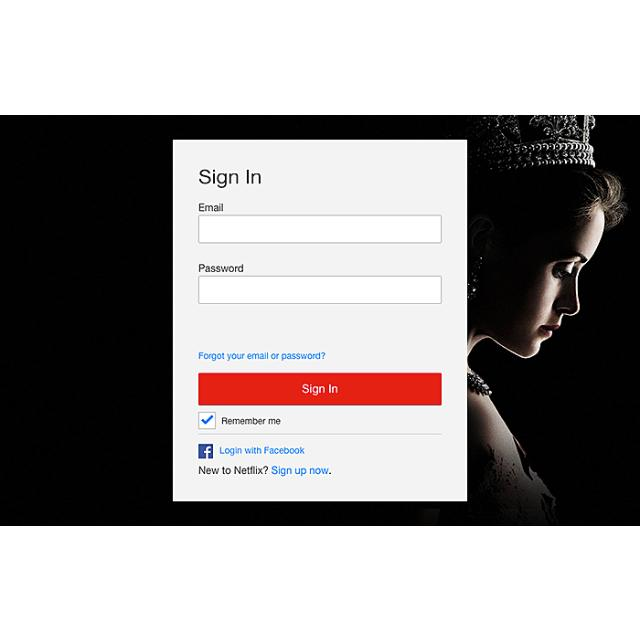QLabel: (196, 349, 326, 361), (196, 166, 264, 188), (220, 444, 308, 456), (198, 464, 268, 476), (271, 464, 331, 476), (220, 416, 282, 426), (302, 383, 338, 395)
VBtn: (197, 372, 443, 406)
VCard: (171, 138, 469, 502)
VCheckbox: (196, 410, 217, 430)
VDivider: (196, 430, 444, 436)
VImg: (196, 440, 216, 460)
VTextField: (196, 273, 444, 305), (198, 213, 444, 244)
